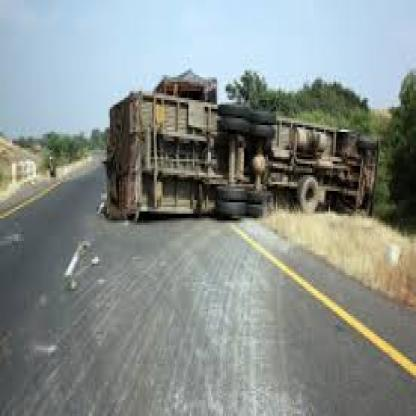accident: (70, 54, 416, 261)
